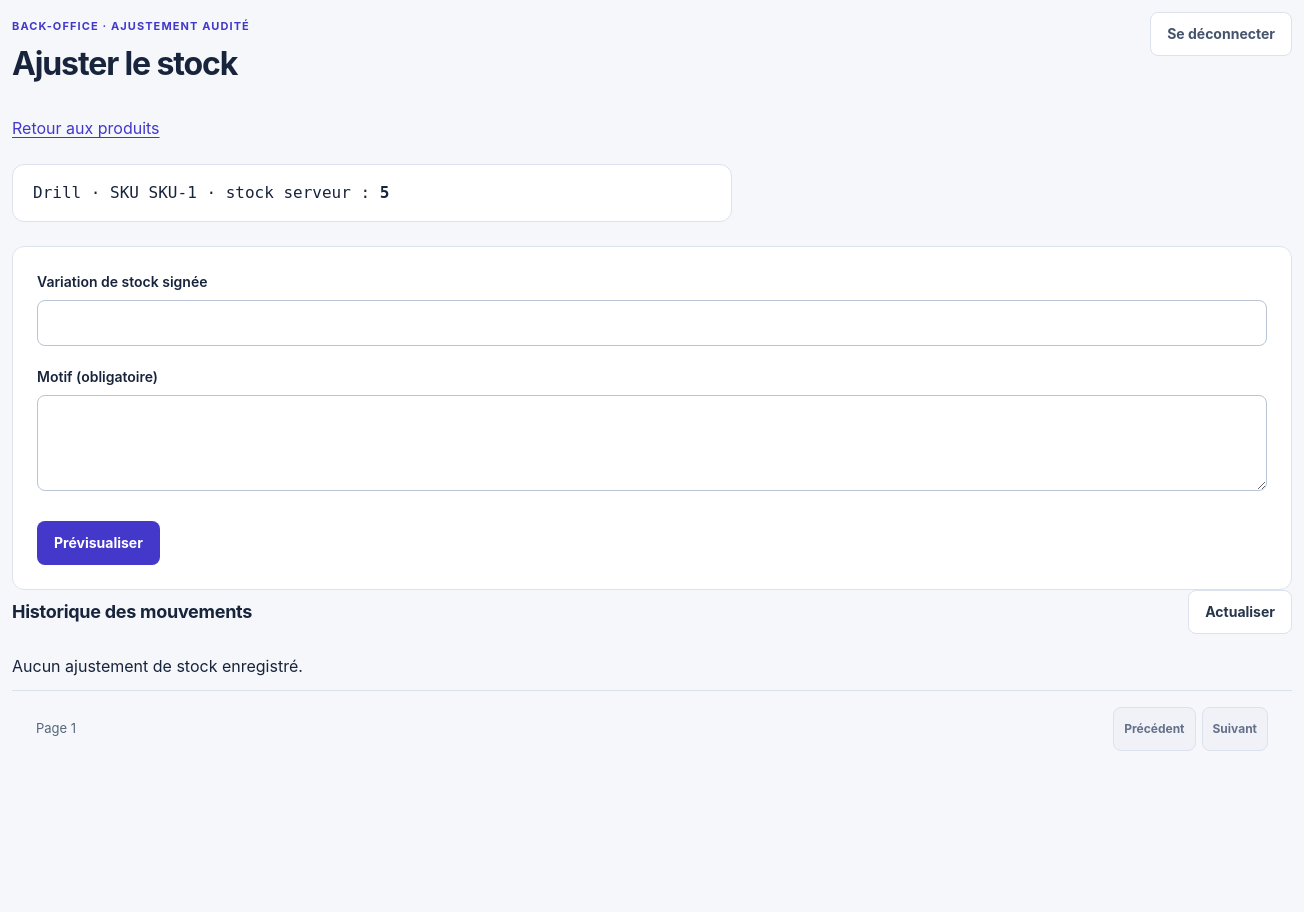
Test: requires confirmation again after editing a preview
In the field with id "stock-delta": (652, 323) [37,300,1267,346], type "1"
In the text box with id "stock-reason": (652, 443) [37,395,1267,491], type "count"
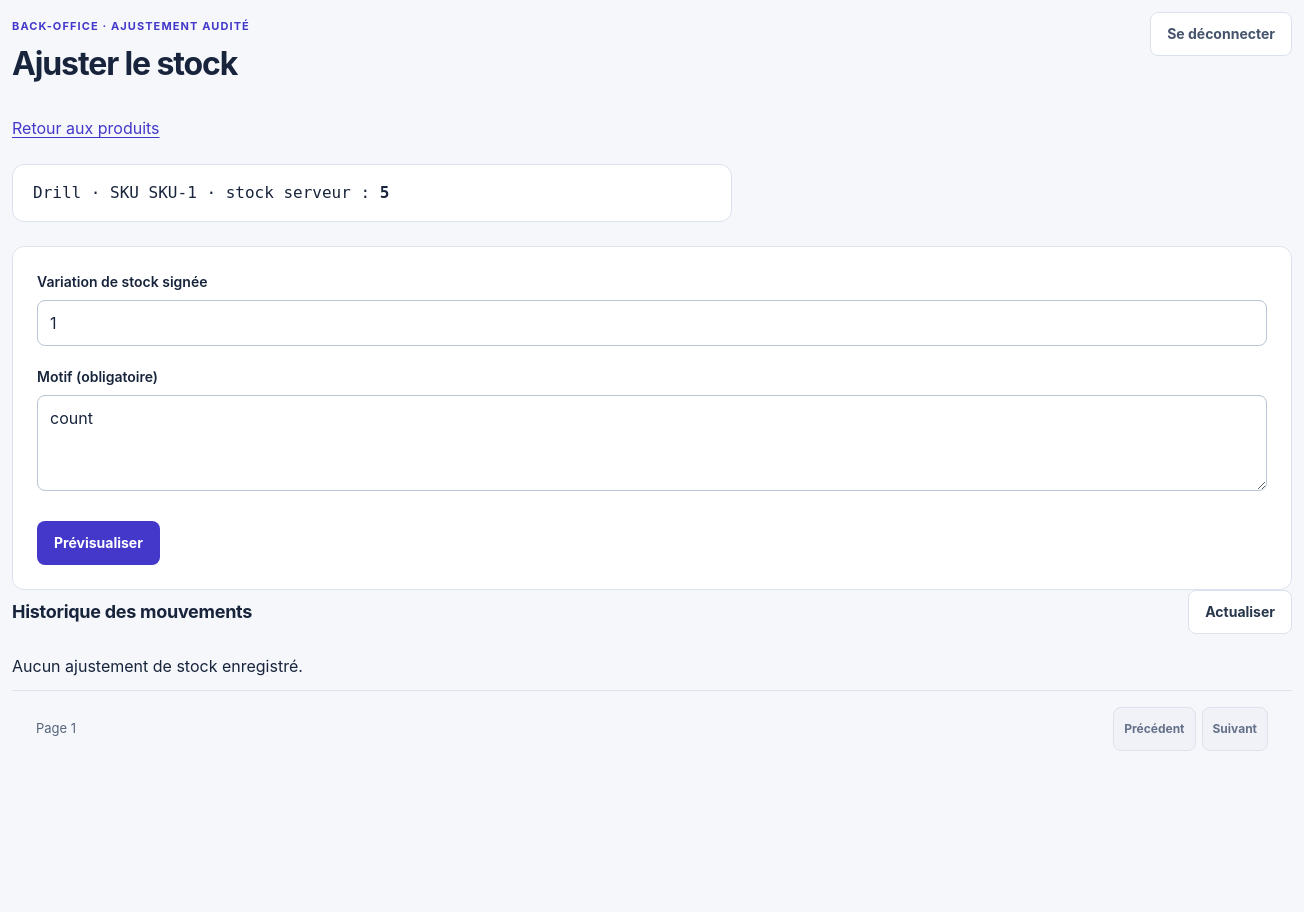
Submit the form, box [12,246,1292,590]
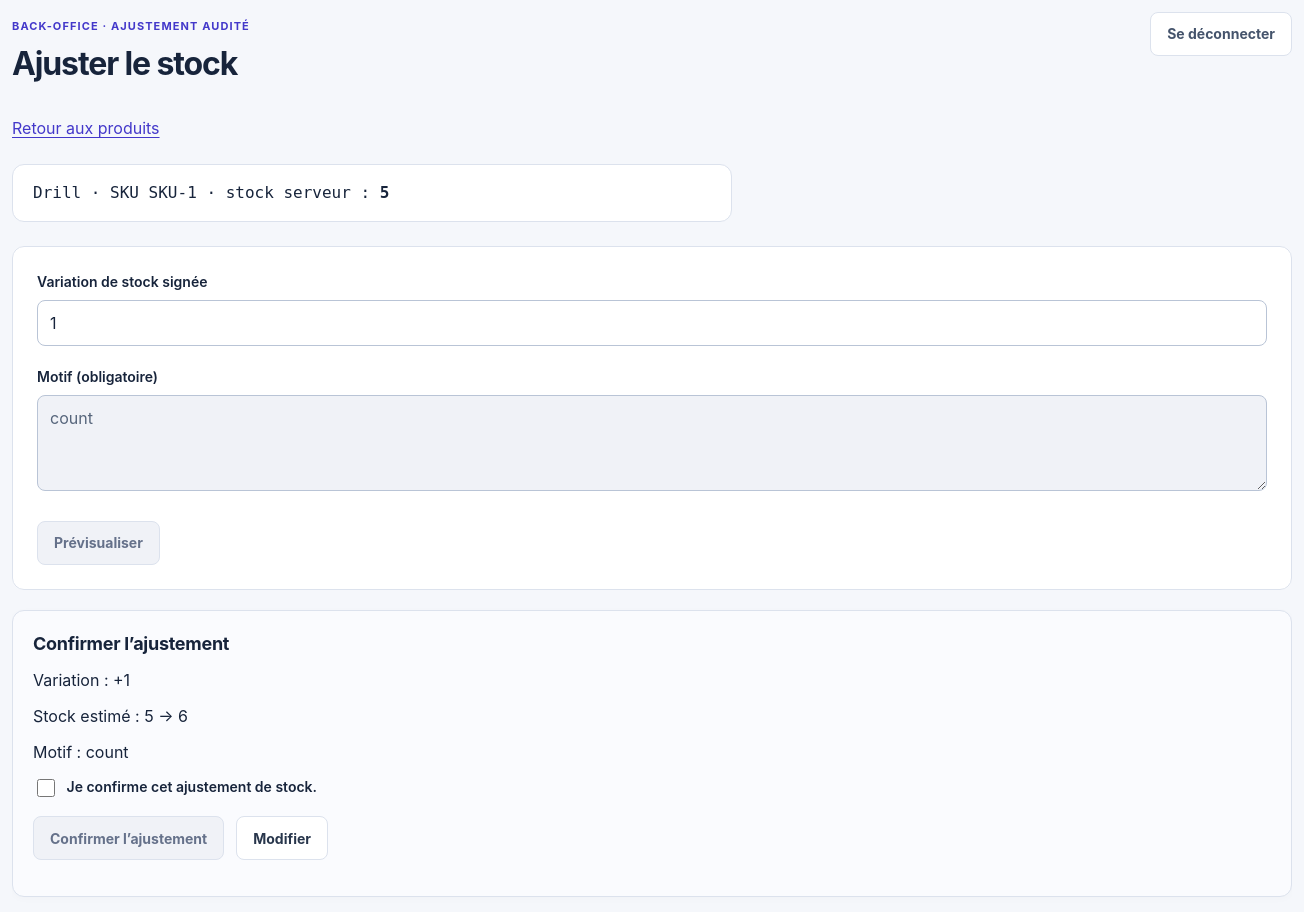
Click the checkbox labelled "Je confirme cet ajustement de stock.": (46, 788) [37,779,55,797]
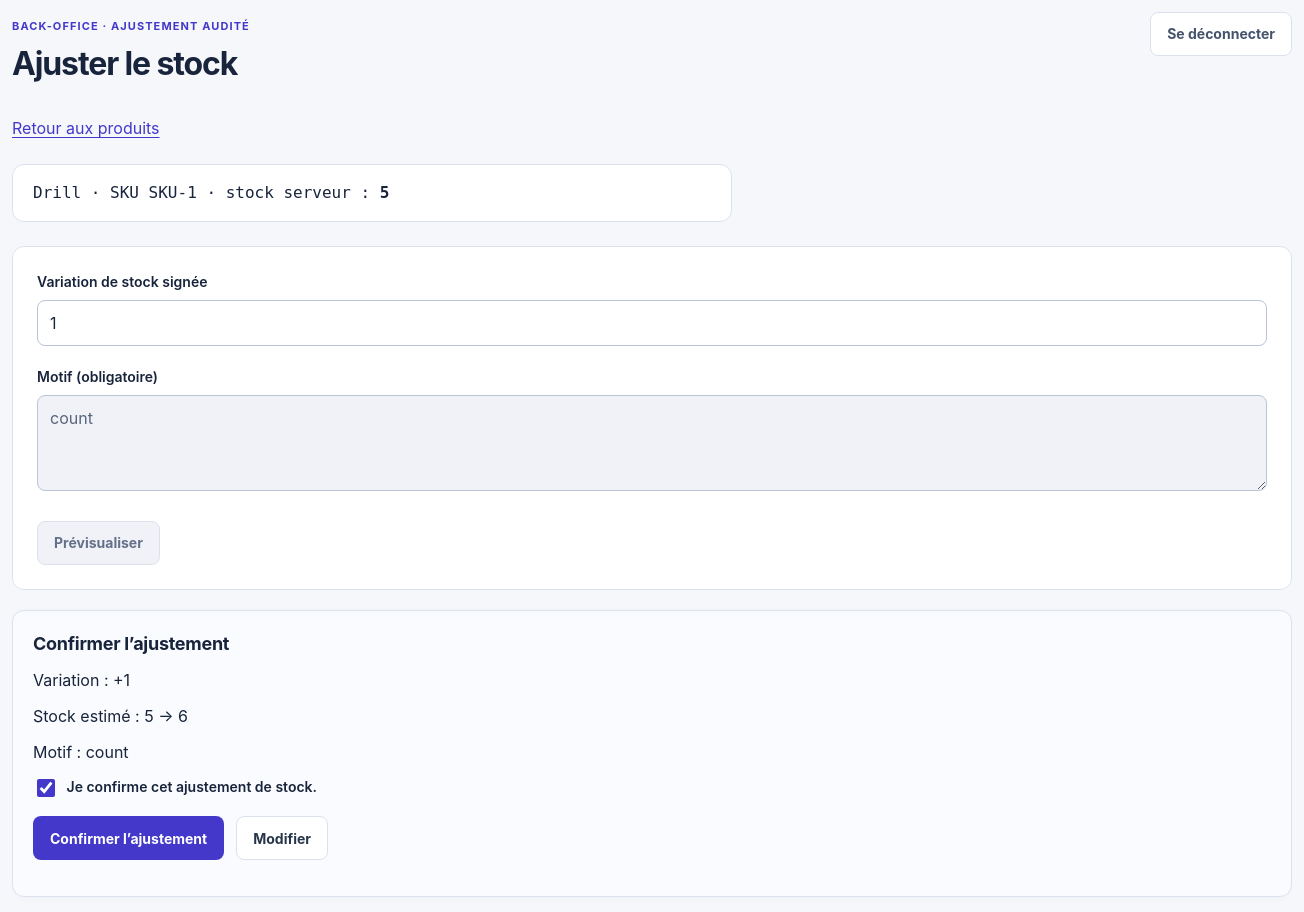
Click the button "Modifier": (282, 838) [236,816,328,860]
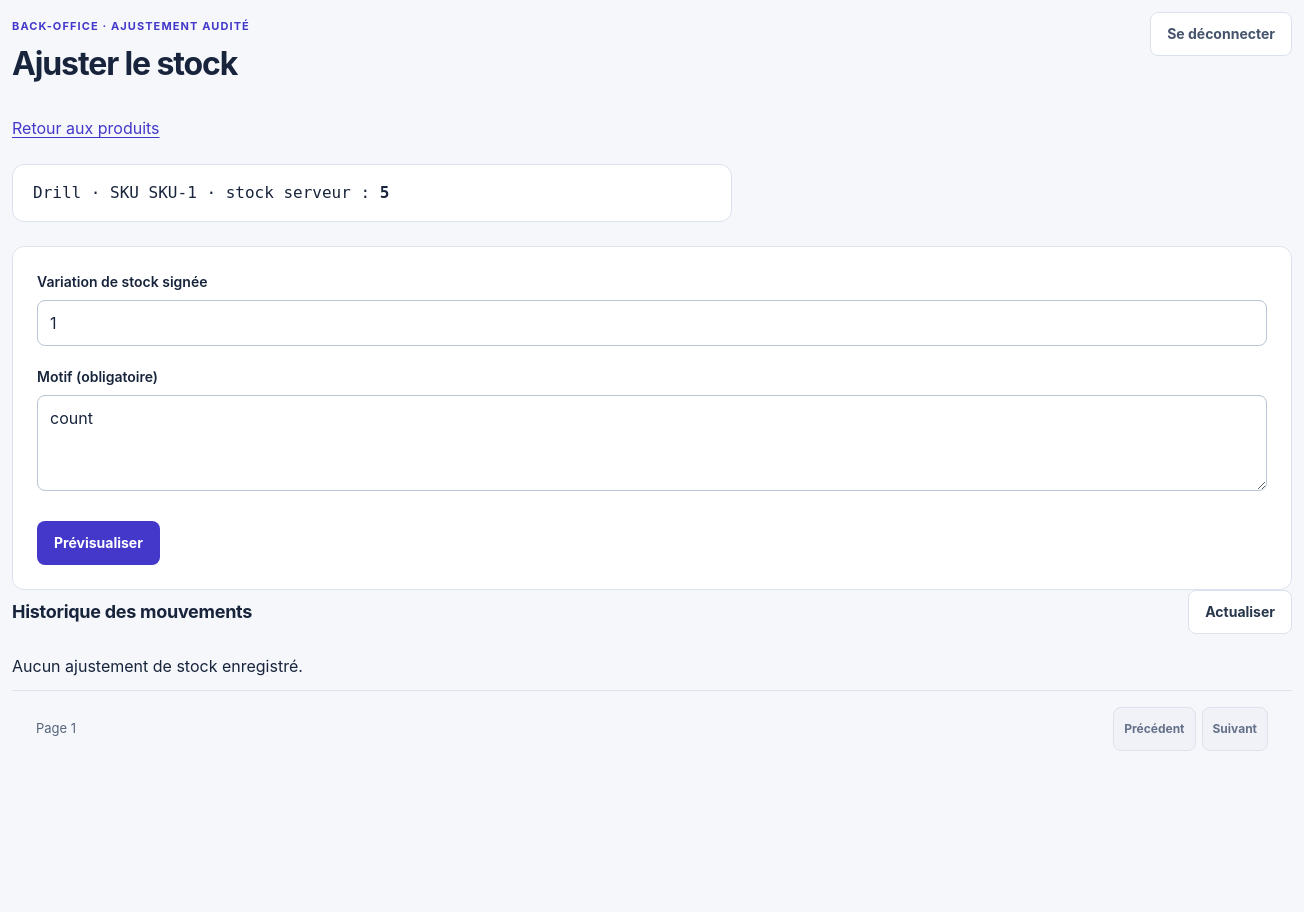
Replace the text in the field with id "stock-delta" with "2": (652, 323) [37,300,1267,346]
Replace the text in the text box with id "stock-reason" with "new reason": (652, 443) [37,395,1267,491]
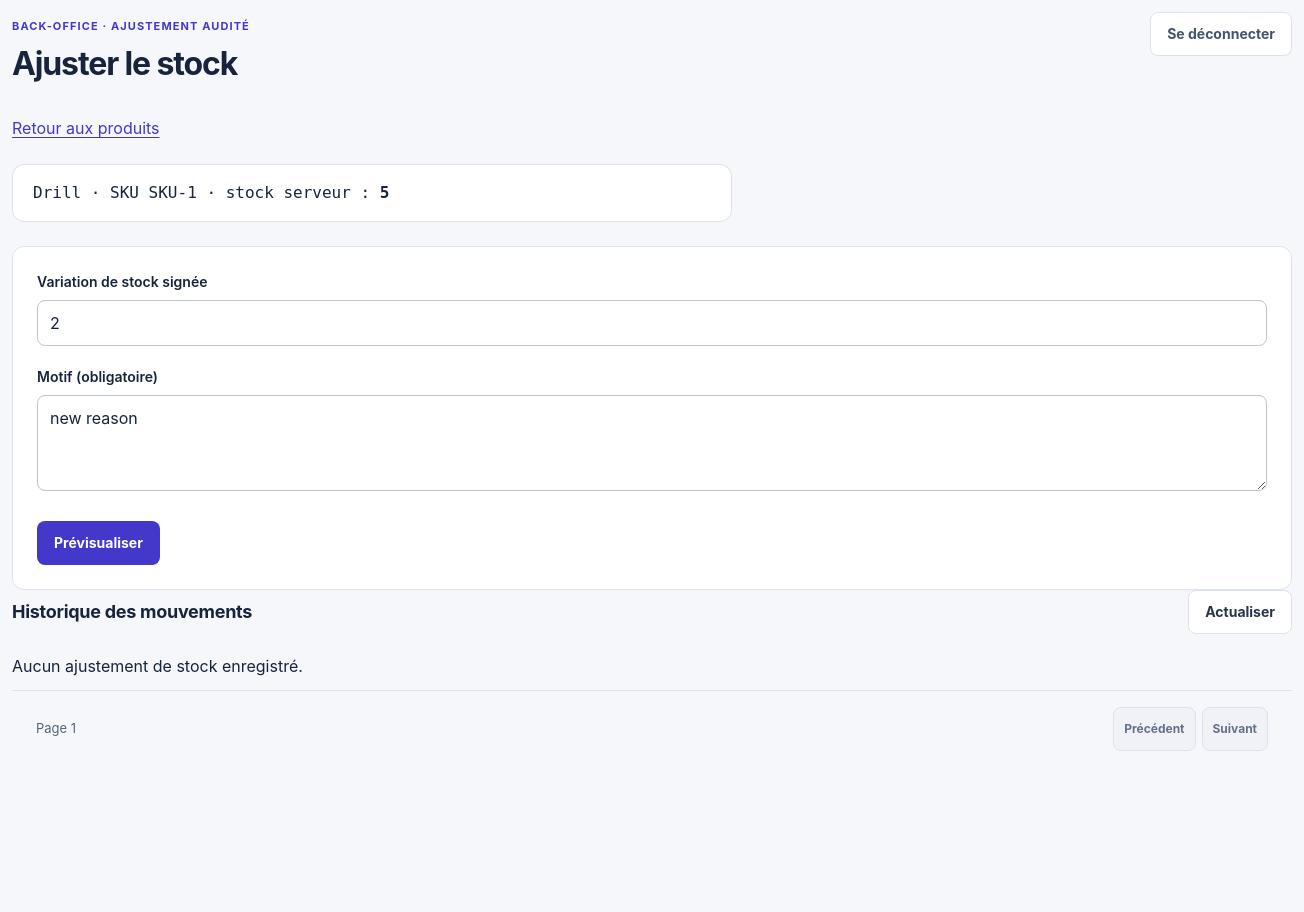
Submit the form, box [12,246,1292,590]
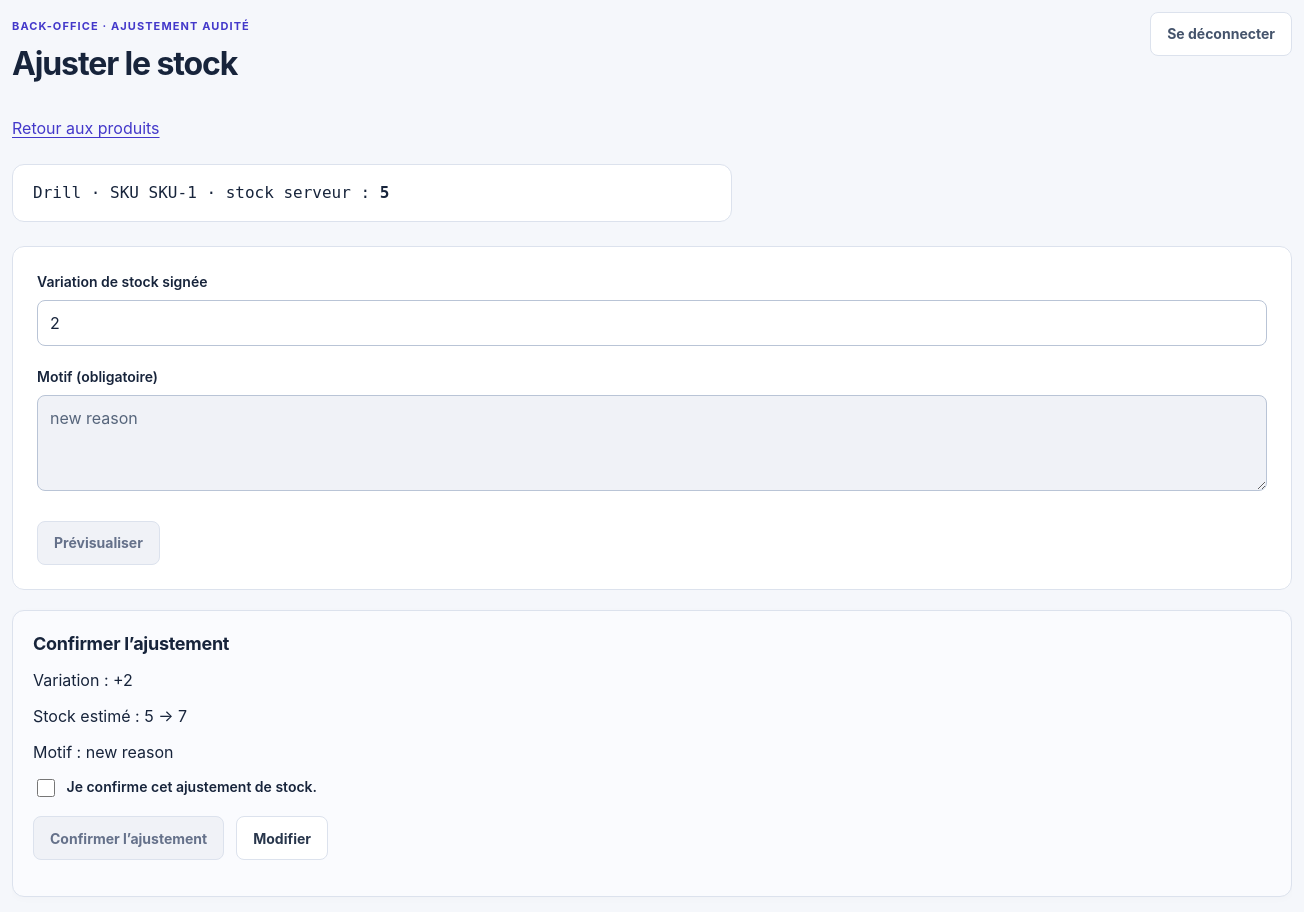
Check: the button "Confirmer l’ajustement" is disabled, box [33,816,224,860]
